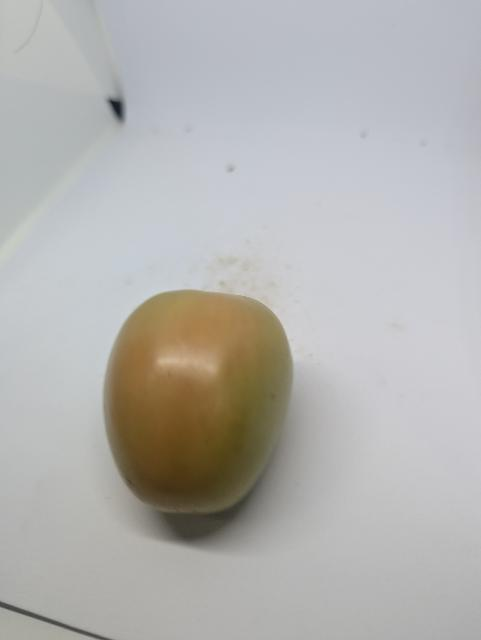turning: (96, 283, 310, 522)
